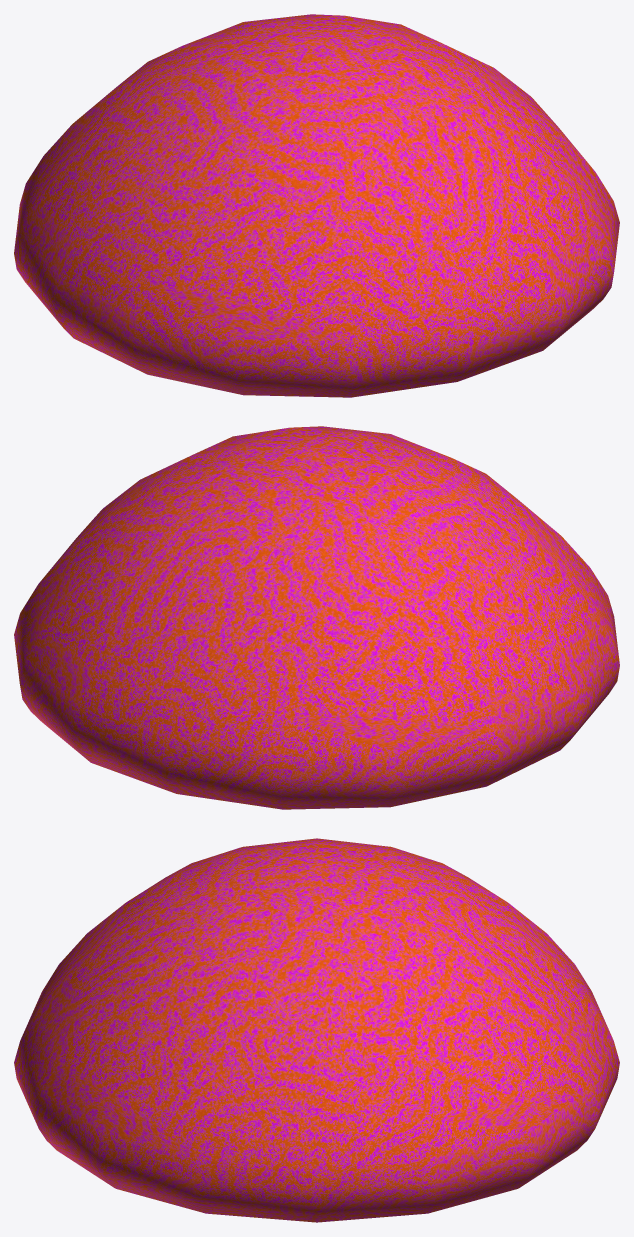
File: 25-Brain.fbx
3 views of the same model, one above another, from view 1: azimuth 30°, elevation 25°; view 2: azimuth 150°, elevation 25°; view 3: azimuth 270°, elevation 25° (orthographic).
Parts seen in each view (by area): view 1: 25-Brain_LOD00; view 2: 25-Brain_LOD00; view 3: 25-Brain_LOD00.
Boxes of the visible parts, left/top/right/bottom form: 25-Brain_LOD00: left=14, top=14, right=619, bottom=397; 25-Brain_LOD00: left=14, top=426, right=619, bottom=809; 25-Brain_LOD00: left=14, top=838, right=619, bottom=1222.
Size of what is drawn, in the model's own units: 45.65 by 19.71 by 45.65.
